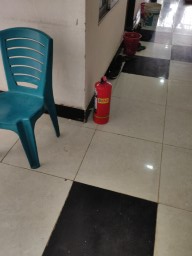fire_extinguisher: (57, 106, 94, 132)
